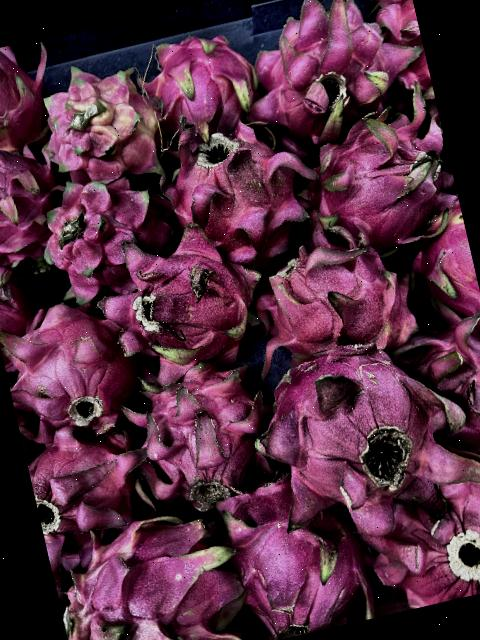buah-naga-belum-matang: (21, 44, 178, 198)
buah-naga-matang: (238, 320, 480, 559), (44, 499, 253, 640), (206, 465, 372, 640), (112, 353, 282, 518), (100, 218, 268, 380), (231, 0, 421, 140), (296, 104, 465, 260), (162, 109, 318, 272), (251, 226, 426, 371), (0, 296, 161, 450), (22, 164, 188, 300), (25, 427, 154, 564), (361, 470, 480, 614), (144, 23, 264, 149), (394, 315, 480, 457), (0, 136, 67, 274), (397, 215, 480, 322), (0, 39, 54, 163)
